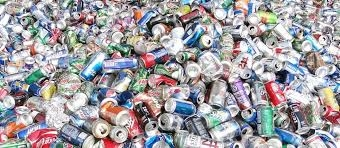metal: (53, 117, 97, 147), (76, 51, 113, 84), (226, 73, 255, 113), (172, 127, 227, 148), (132, 98, 161, 135), (251, 100, 278, 139), (100, 53, 145, 76), (96, 101, 134, 125), (286, 100, 310, 138), (263, 77, 291, 109), (136, 45, 171, 70), (206, 75, 231, 110), (1, 112, 34, 138), (163, 95, 203, 116), (249, 79, 274, 111), (178, 19, 206, 44), (23, 64, 52, 88), (80, 114, 110, 137), (172, 47, 204, 67), (157, 111, 187, 132), (315, 85, 340, 107), (318, 102, 340, 127)
